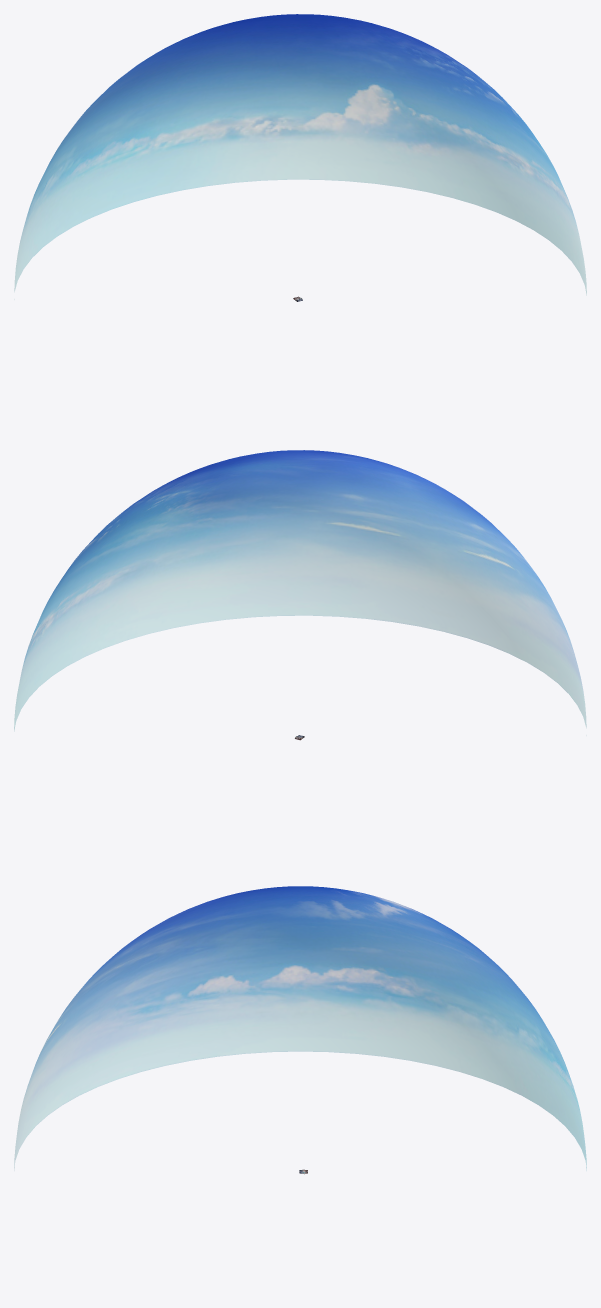
The model's file is pool_day_baked.glb.
3 renders of one model, top to bottom at view 1: azimuth 30°, elevation 25°; view 2: azimuth 150°, elevation 25°; view 3: azimuth 270°, elevation 25°, orthographic.
Visible parts, largest first — view 1: Object_10; view 2: Object_10; view 3: Object_10.
Part boxes in pixels (box(x1,y1,x2,y2)): Object_10: box(14, 14, 586, 299); Object_10: box(14, 450, 586, 735); Object_10: box(14, 886, 586, 1170).
Size of the model in its own units: 8514 by 4266 by 8514.
Materials: 6 (6 with a texture image).
